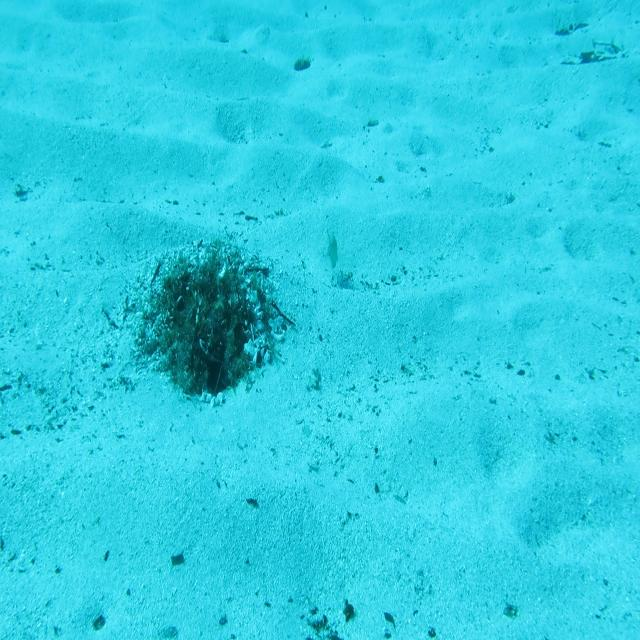SA: (325, 224, 342, 270)
core_nest: (193, 272, 238, 305)
nest: (143, 224, 292, 395)
